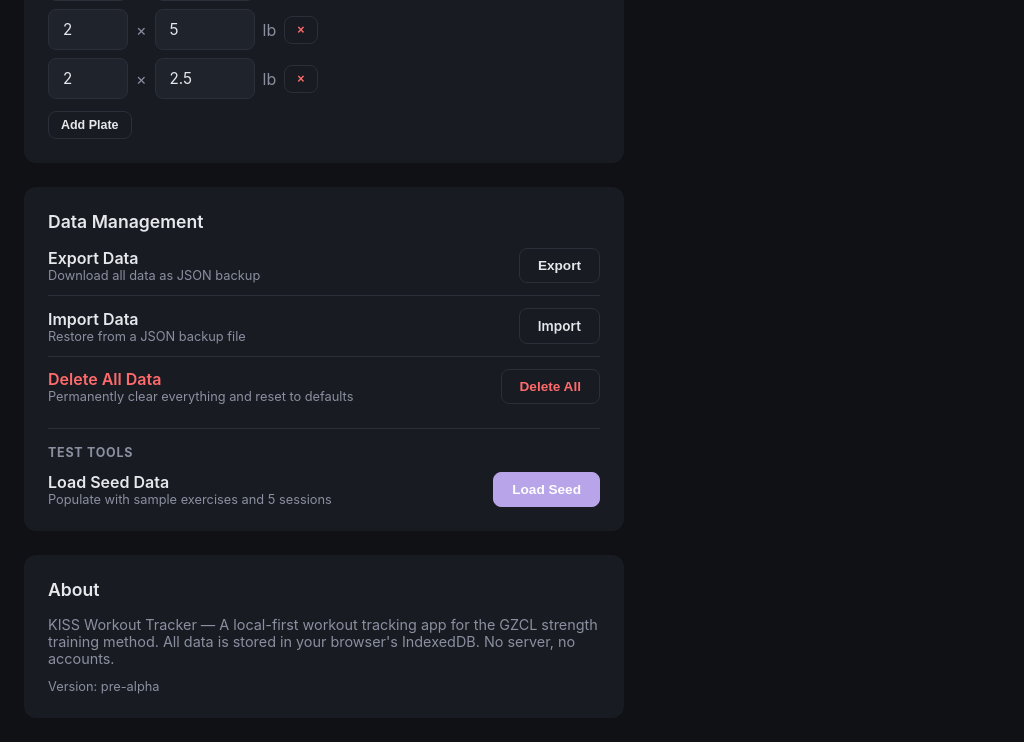
SettingsPage › shows delete confirmation modal
(page scrolled)
Click the button "Delete All": [550, 386] box top-left (500, 369), bottom-right (600, 404)
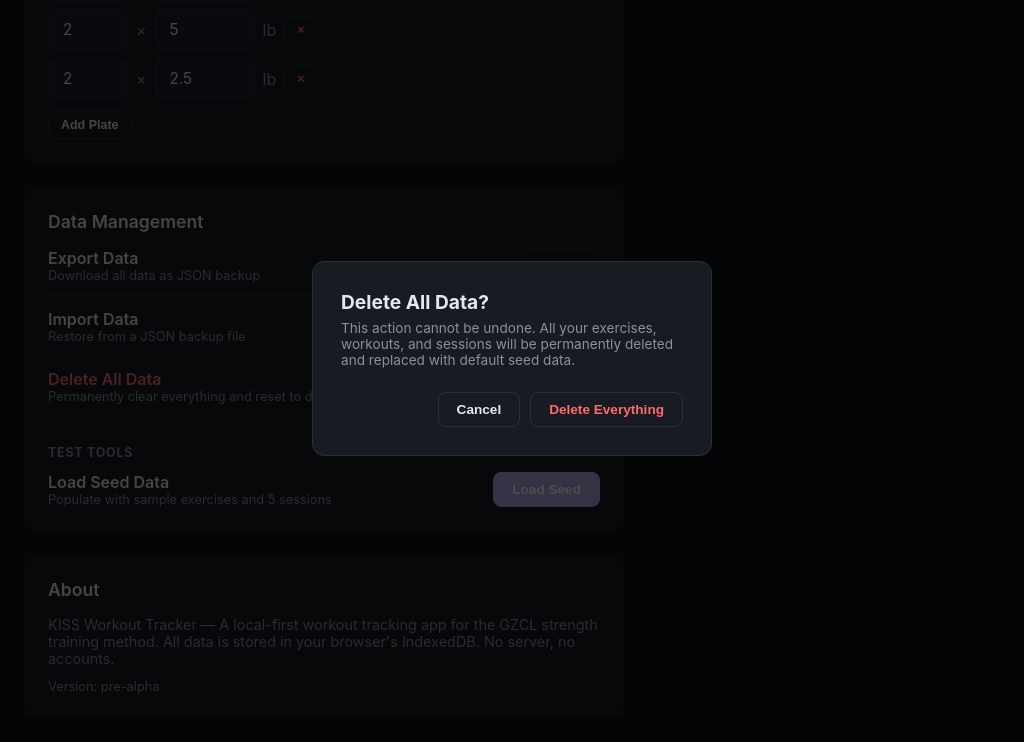
Expected: the heading "Delete All Data?" is shown, top-left (341, 290), bottom-right (489, 314)
